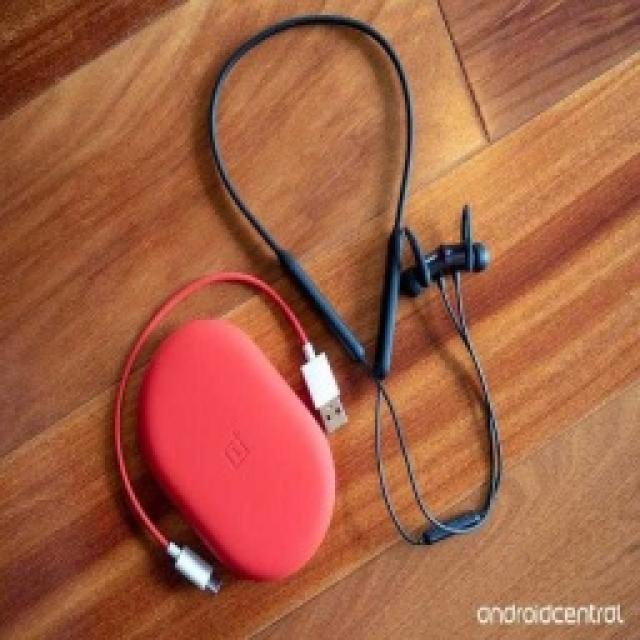headphones: (110, 10, 500, 588)
